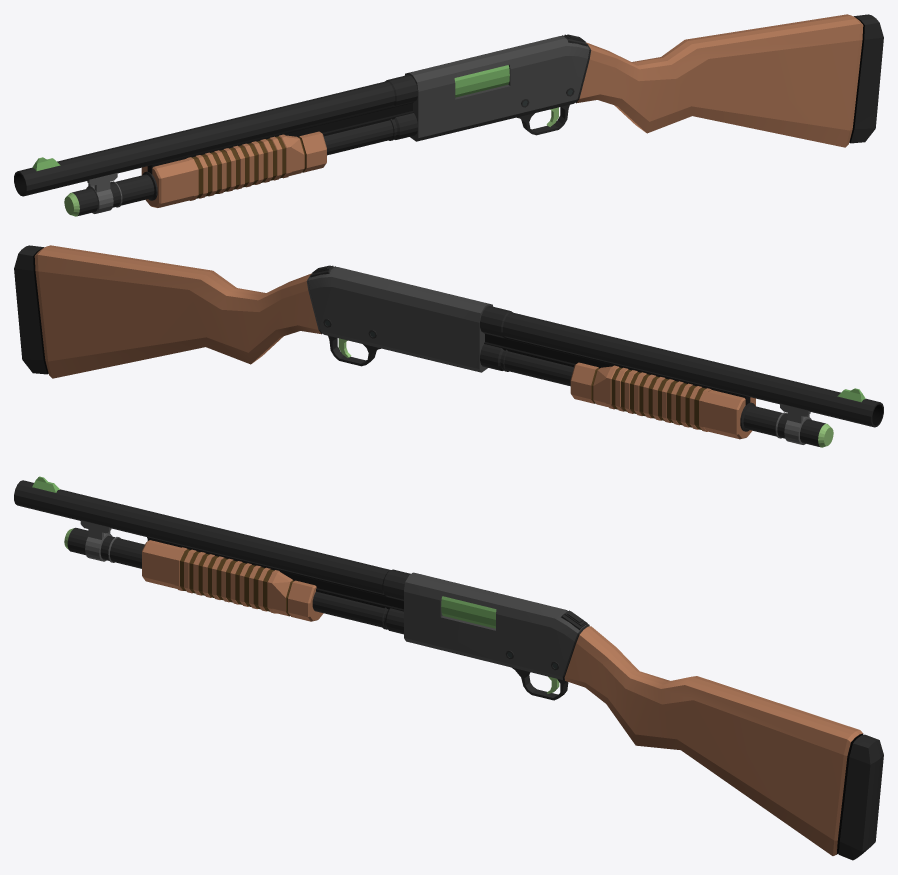
File: Gun.fbx
3 views of the same model, one above another, from view 1: azimuth 30°, elevation 25°; view 2: azimuth 150°, elevation 25°; view 3: azimuth 330°, elevation 25° (orthographic).
Parts seen in each view (by area): view 1: m871; view 2: m871; view 3: m871.
Boxes of the visible parts, bbox=[...] form: m871: bbox=[14, 14, 883, 216]; m871: bbox=[14, 245, 883, 447]; m871: bbox=[14, 476, 883, 860].
Bounding box in the file's own units: 12.29 × 2.46 × 0.4838.
